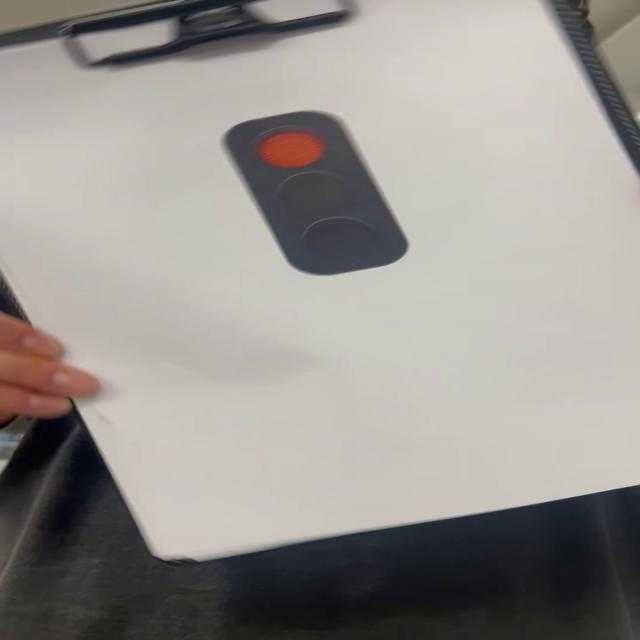red: (222, 113, 417, 278)
